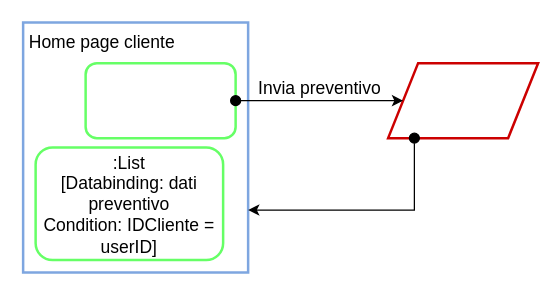
Some shapes in this 560 by 295 pixel diagram are drawn without their labels. The shapes that lost their labels are listed below. From the top down, each one's centre as x and y in pixels, then its label:
At pixel 160 100: "Preventivo form [Field: Prodotto Field: opzioni]".
At pixel 462 100: "Creazione preventivo".
